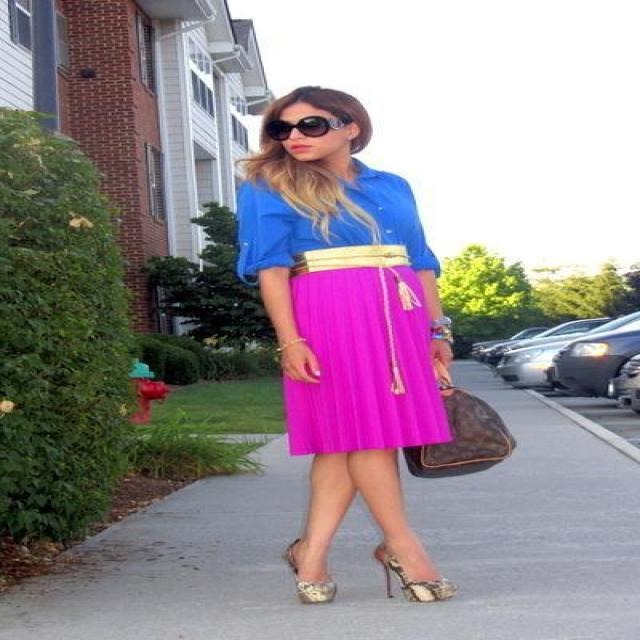bag: (403, 389, 515, 477)
shirt: (236, 161, 438, 281)
shoe: (282, 534, 467, 607)
skirt: (285, 260, 453, 454)
sunglass: (262, 110, 352, 153)
